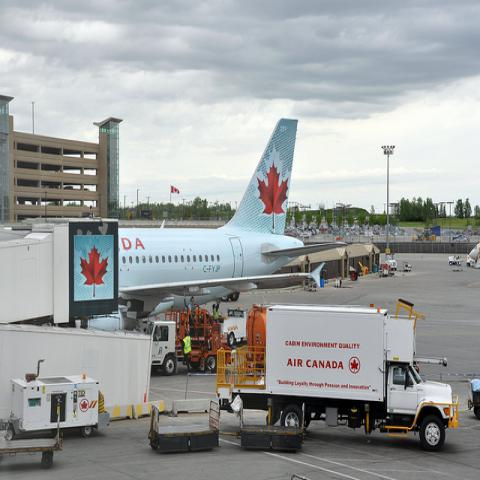car: (467, 376, 479, 422), (448, 256, 464, 265), (63, 186, 73, 189), (84, 188, 90, 191)
truck: (217, 297, 458, 452), (146, 308, 230, 376), (214, 306, 248, 346), (385, 252, 397, 271), (401, 261, 412, 272)
